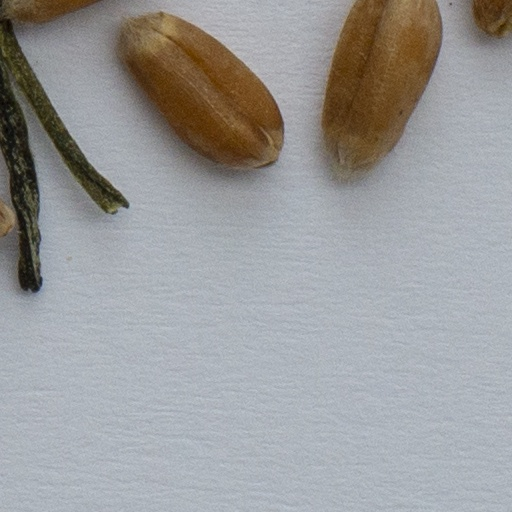Peel-poly: (0, 0, 119, 293)
